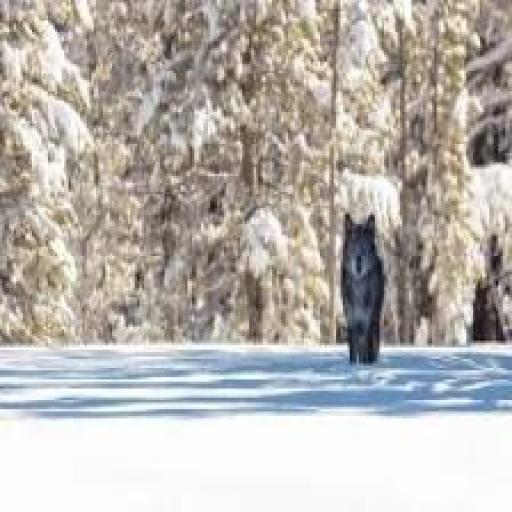wolf: (320, 201, 407, 381)
